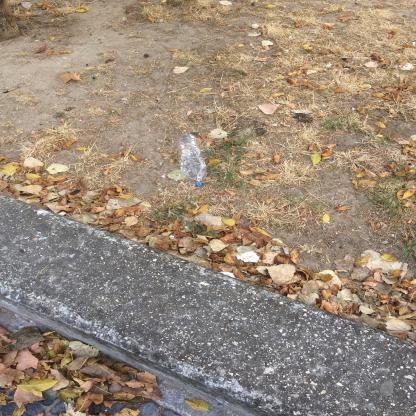plastik: (176, 134, 207, 188)
